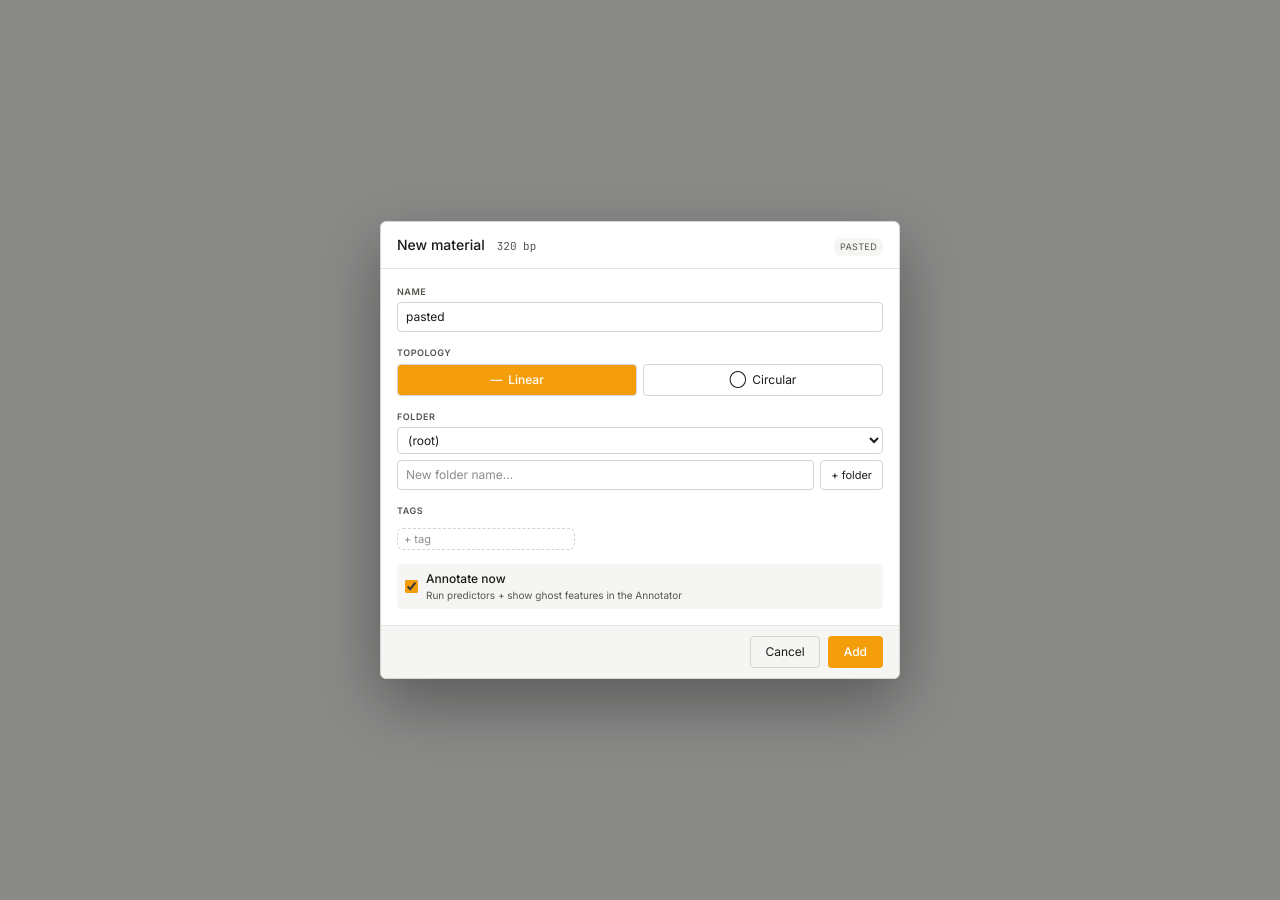
Test: PreImportModal — folder picker (+ button + sections) › + folder pressing Enter in the input also adds + selects
Type "Lab/2026" into the field with test id "pre-import-new-folder-input" at [606, 475], box [397, 460, 814, 490]
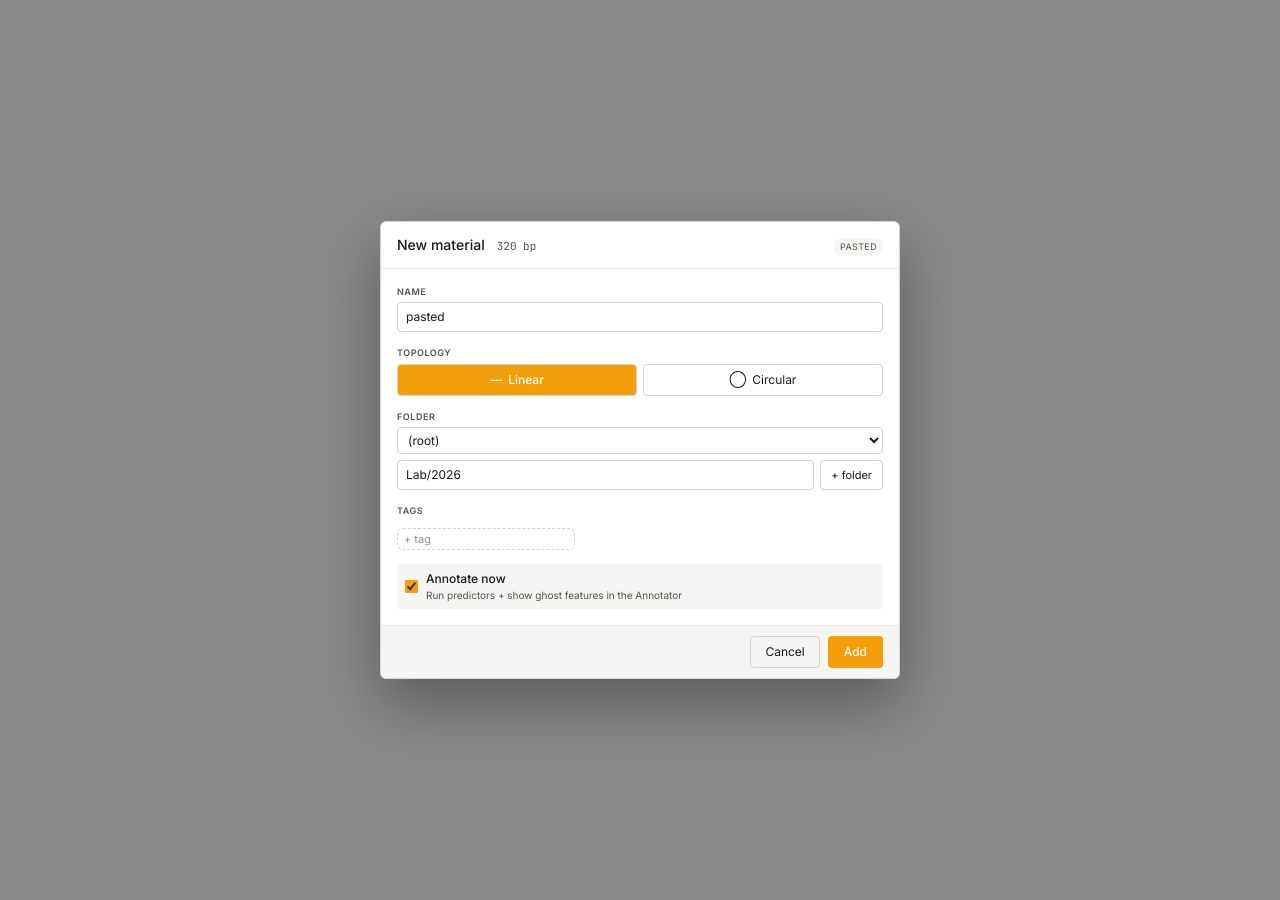
Press Enter in the field with test id "pre-import-new-folder-input", box [397, 460, 814, 490]
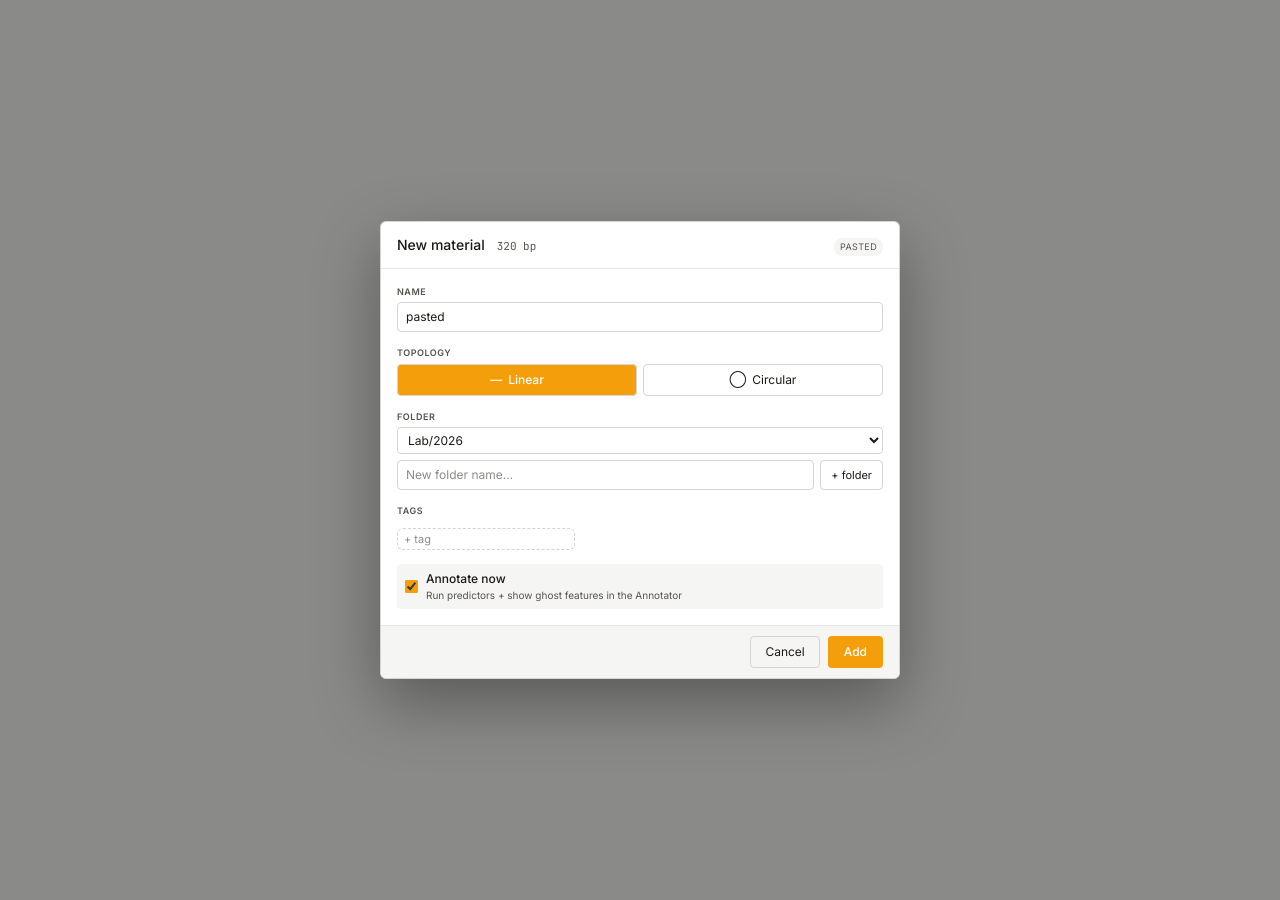
expect the dropdown with test id "pre-import-folder" shows "Lab/2026": met, box [397, 427, 883, 454]
